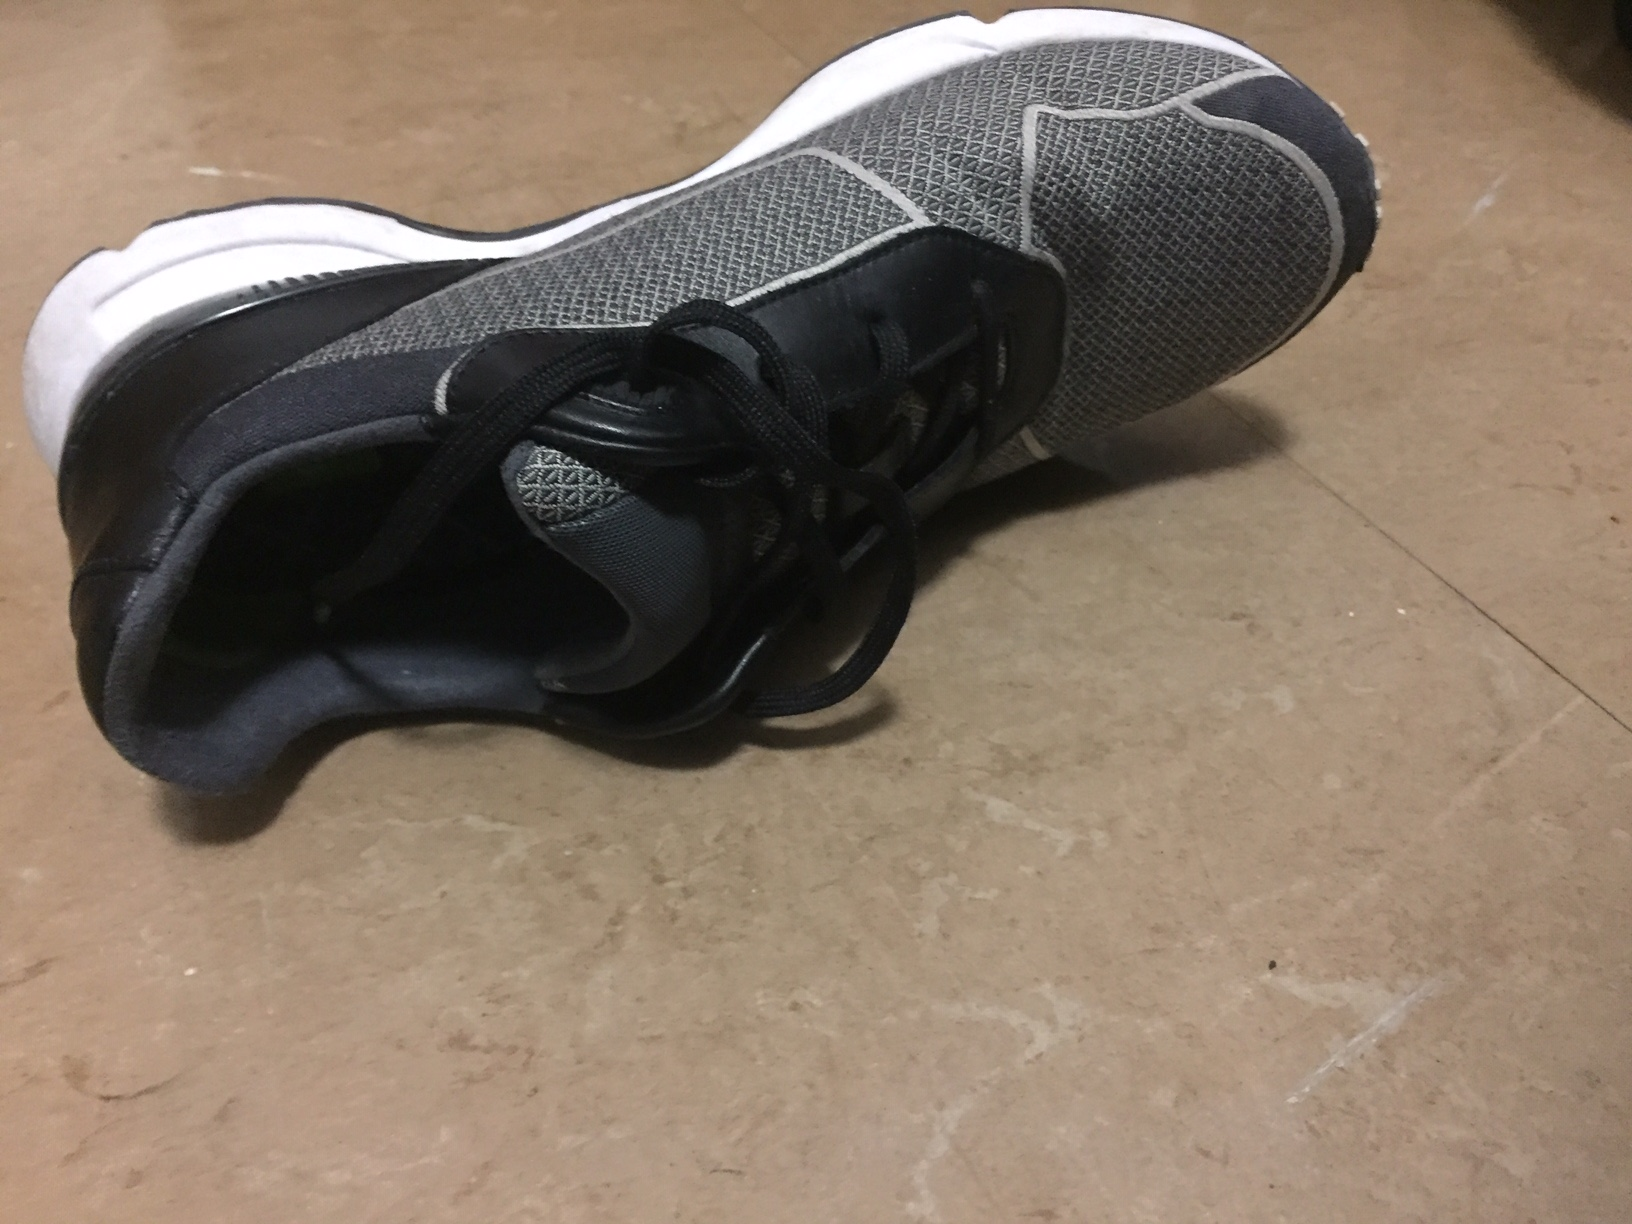car: (8, 10, 1405, 825)
